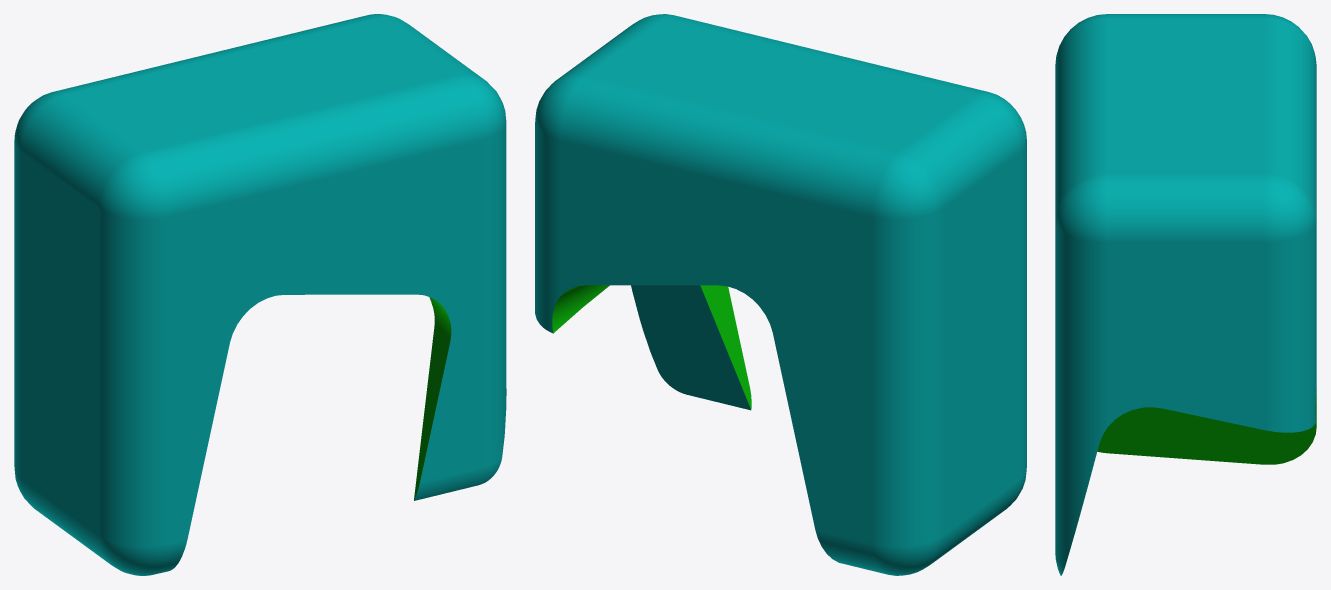
The model's file is random7.fbx.
3 renders of one model, left to right at view 1: azimuth 30°, elevation 25°; view 2: azimuth 150°, elevation 25°; view 3: azimuth 270°, elevation 25°, orthographic.
Parts seen in each view (by area): view 1: obj1; view 2: obj1; view 3: obj1.
Part boxes in pixels (x1,y1,x2,y2): obj1: (14, 14, 506, 575); obj1: (535, 14, 1026, 575); obj1: (1055, 14, 1316, 575).
Bounding box in the file's own units: 9 × 9 × 5.
